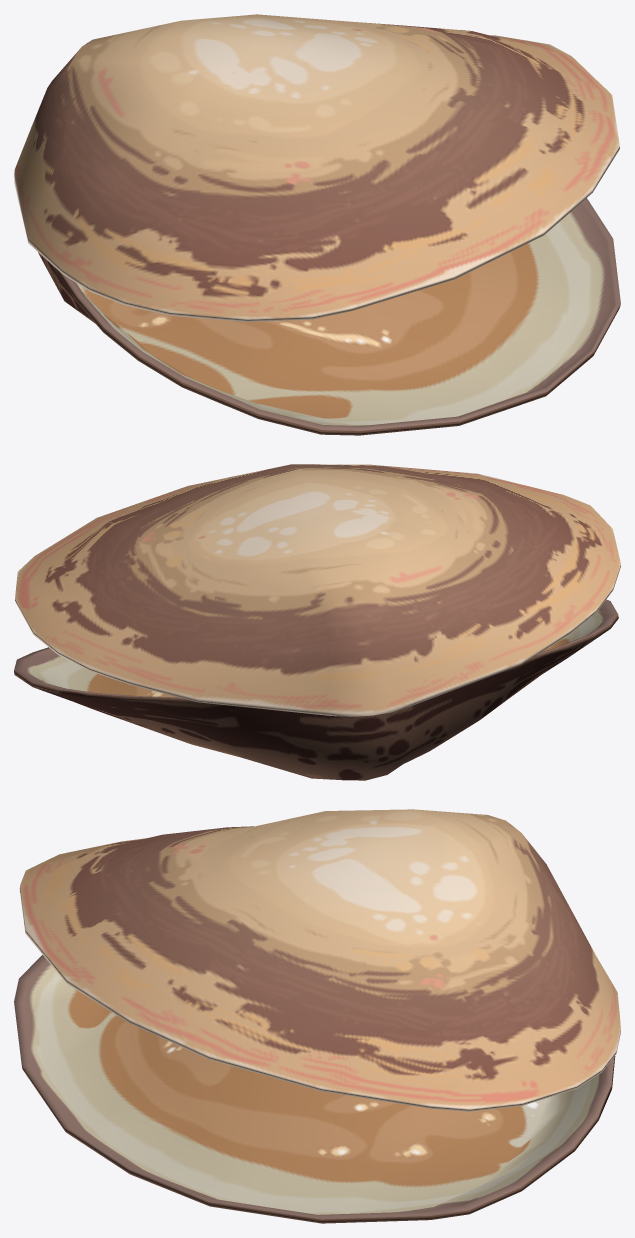
The model's file is clam.glb.
The picture shows the model from 3 angles, top to bottom: view 1: azimuth 30°, elevation 25°; view 2: azimuth 150°, elevation 25°; view 3: azimuth 270°, elevation 25°; orthographic projection. The views are drawn at different scales.
Visible parts, largest first — view 1: Mollusc_Clam; view 2: Mollusc_Clam; view 3: Mollusc_Clam.
Part boxes in pixels (x1,y1,x2,y2): Mollusc_Clam: (14,14,620,435); Mollusc_Clam: (14,464,620,780); Mollusc_Clam: (14,809,620,1223).
Bounding box in the file's own units: 0.0769 × 0.0381 × 0.0737.
1 material, 1 textured.
